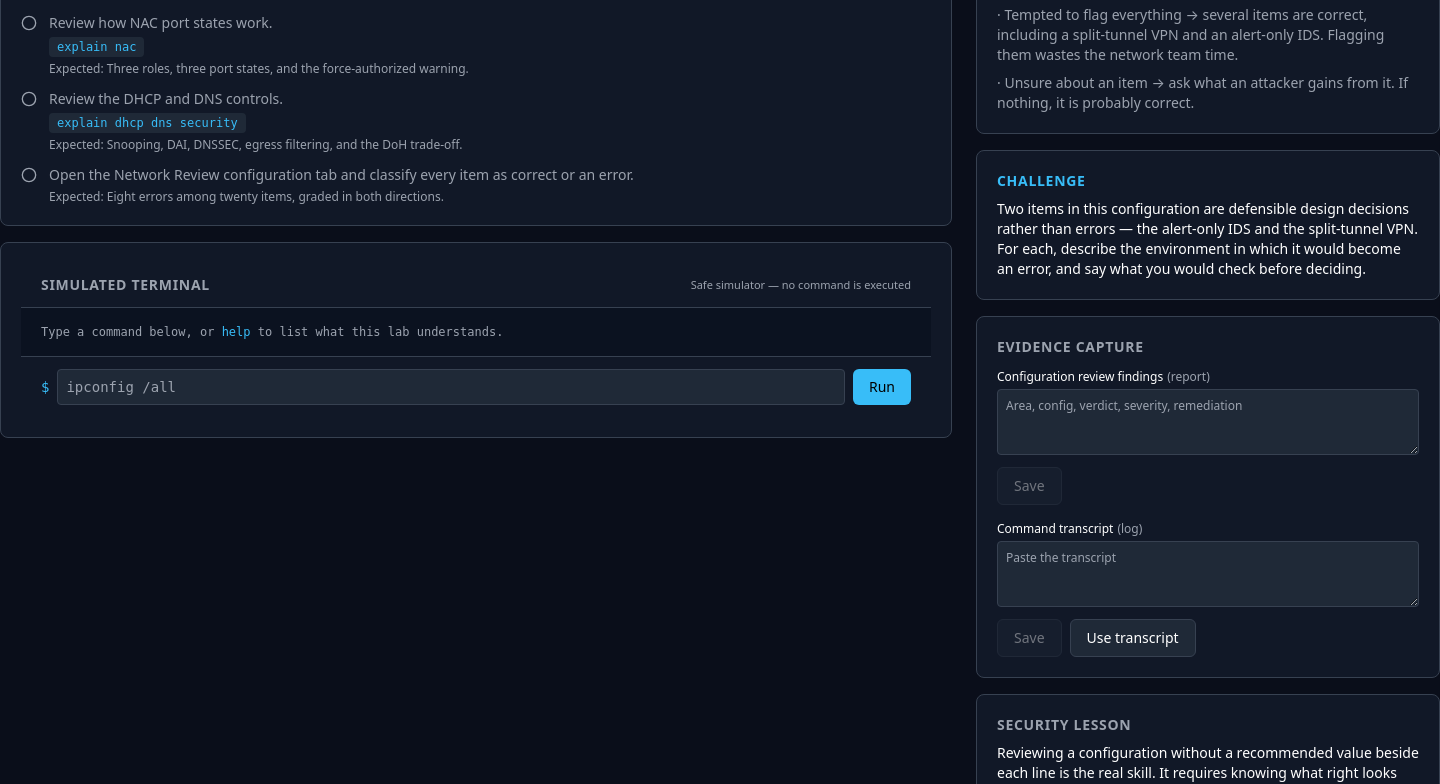
Test: Phase 11 labs and quizzes › shows the VLAN hopping conditions in the review lab
This screenshot has width=1440, height=784.
(page scrolled)
Type "show vlan config" into the field named "Simulated command input".
click(451, 387); type("show vlan config")  # box [57,369,845,405]
Then press Enter
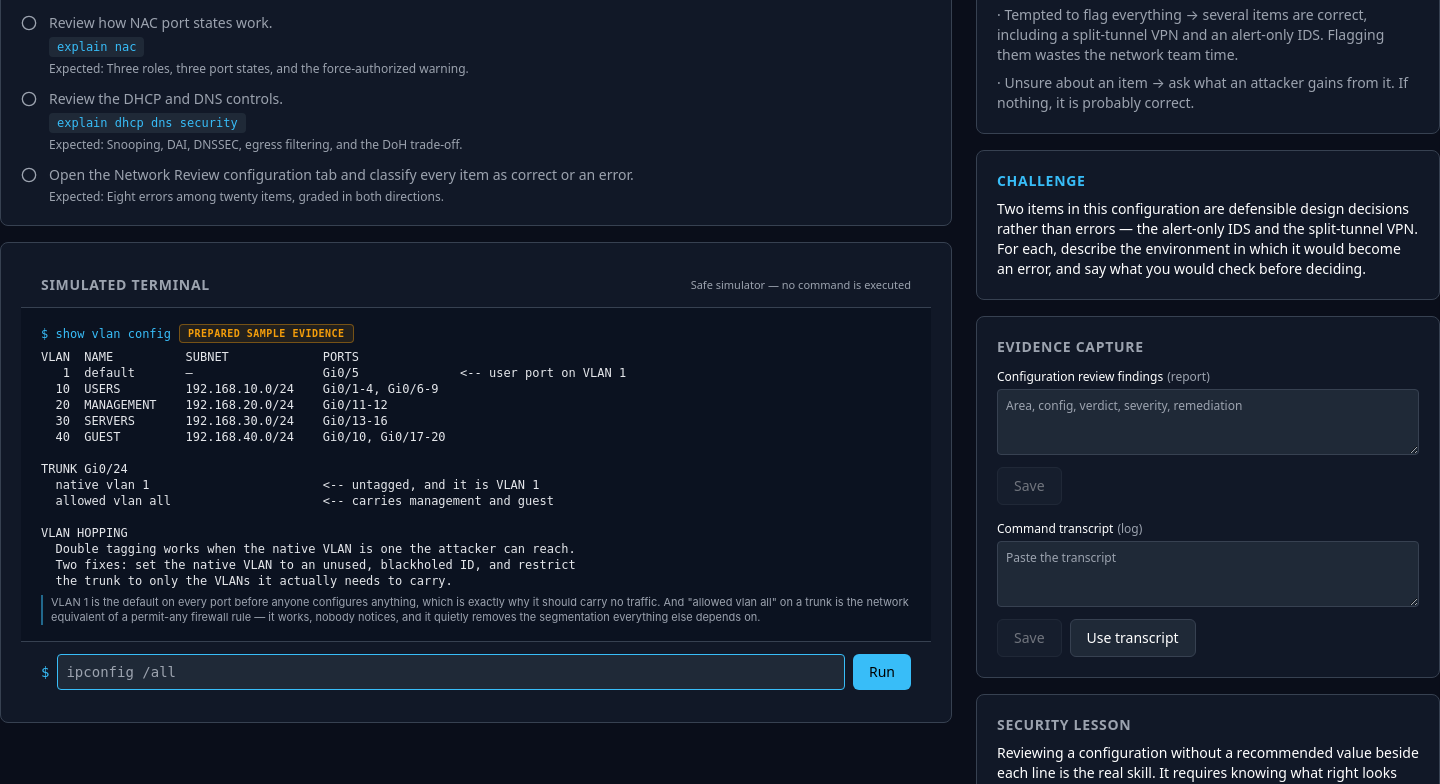
Result: the text "VLAN HOPPING" is shown at [41,350,626,588]
